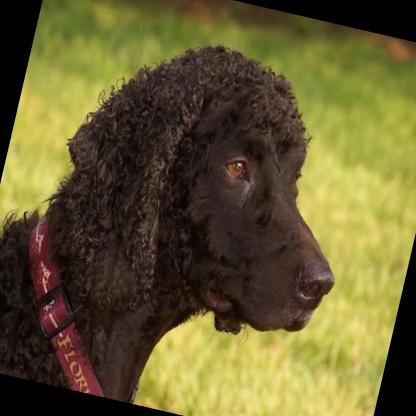Irish_water_spaniel: (0, 3, 380, 416)
